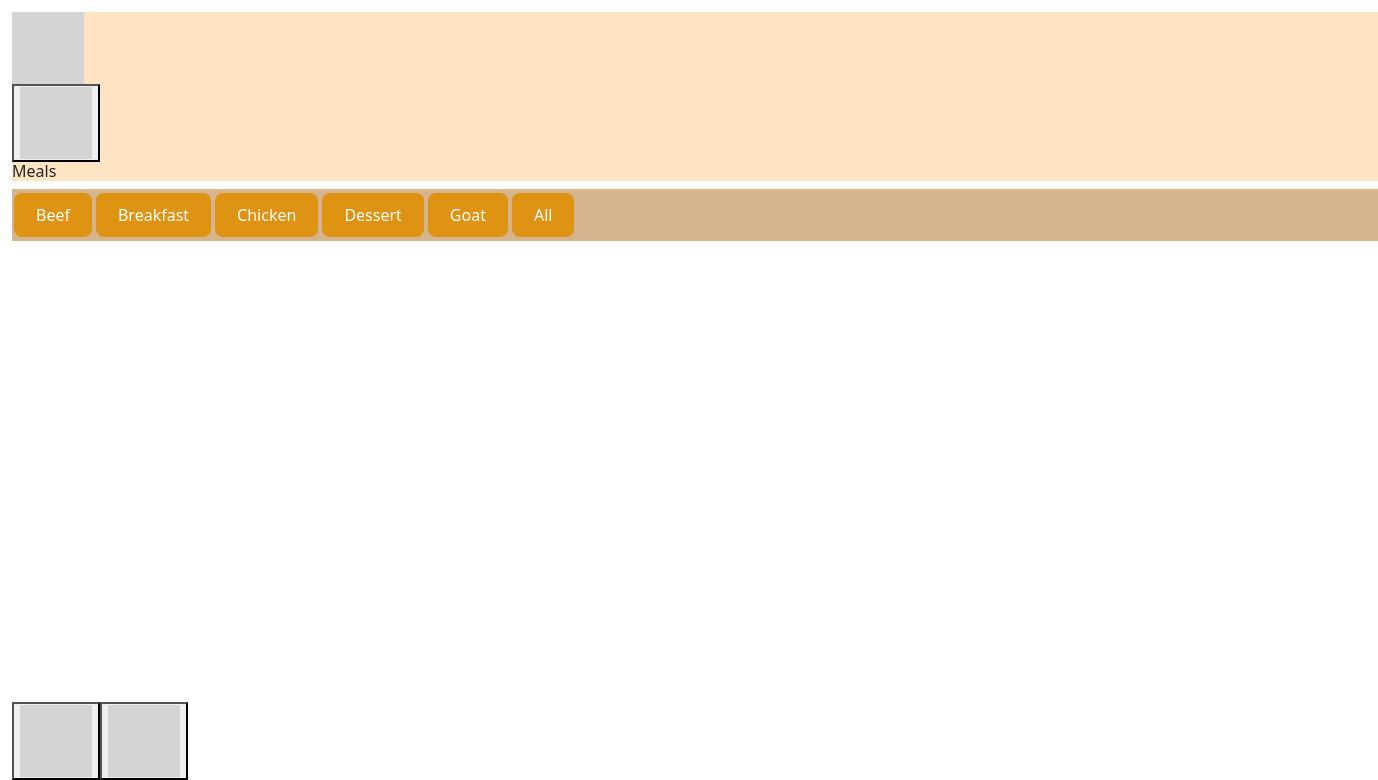
Test: Teste a página de receitas › Testa a renderização do Recipes Meals ao selecionar Goat como categoria
Click the button with test id "Goat-category-filter" at (468, 215), box top-left (428, 193), bottom-right (508, 237)
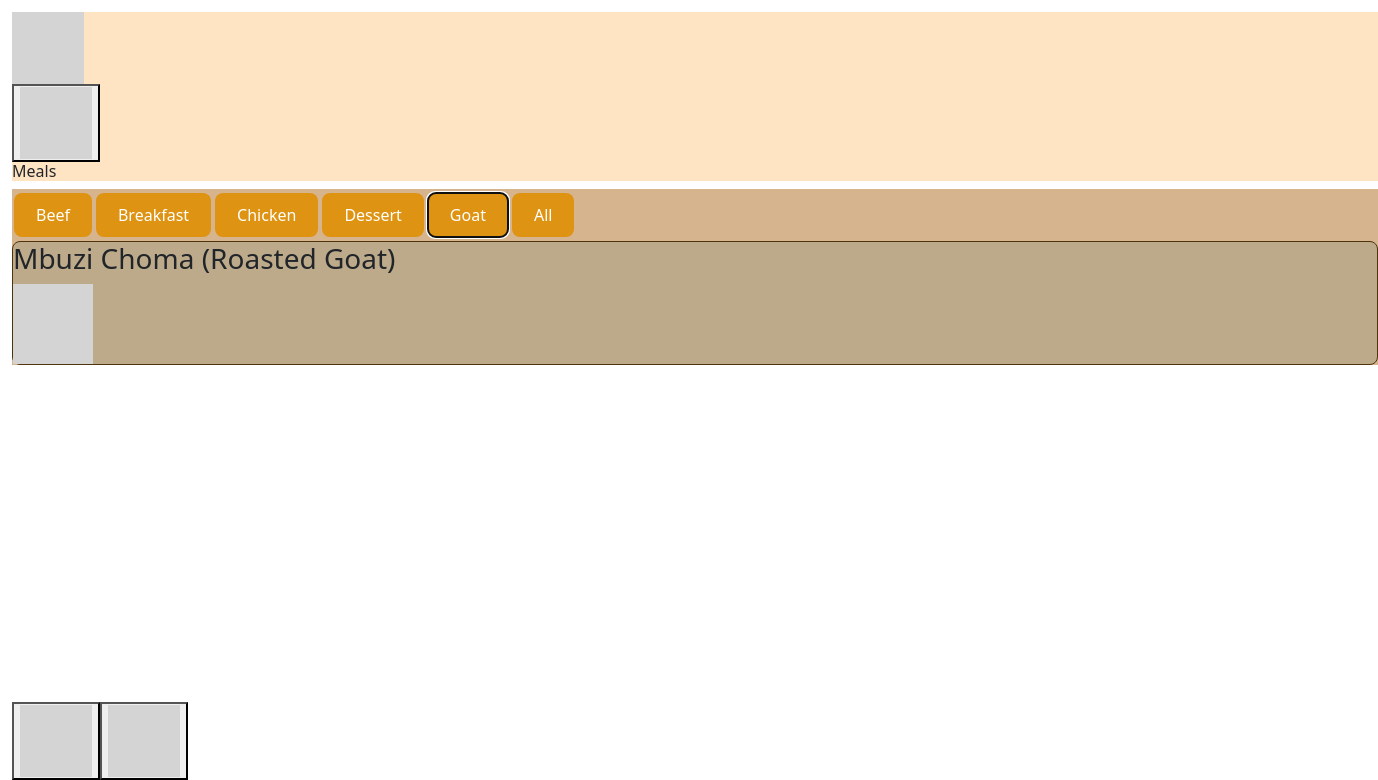
Result: the heading "Mbuzi Choma (Roasted Goat)" is shown at top-left (13, 239), bottom-right (396, 277)
